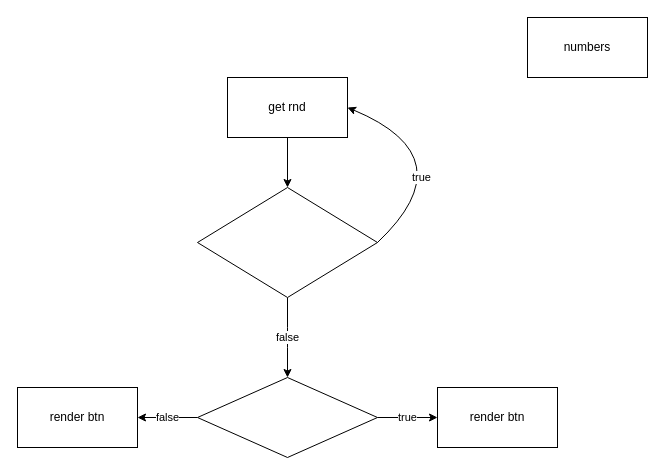
This 665x475 diagram has some shape labels left out. Each missing label, with the centre of its shape:
"numbers.lenth>=10" belongs at (x=287, y=417).
"rnd in numbers && numbers.lenth <= 10" belongs at (x=287, y=242).
